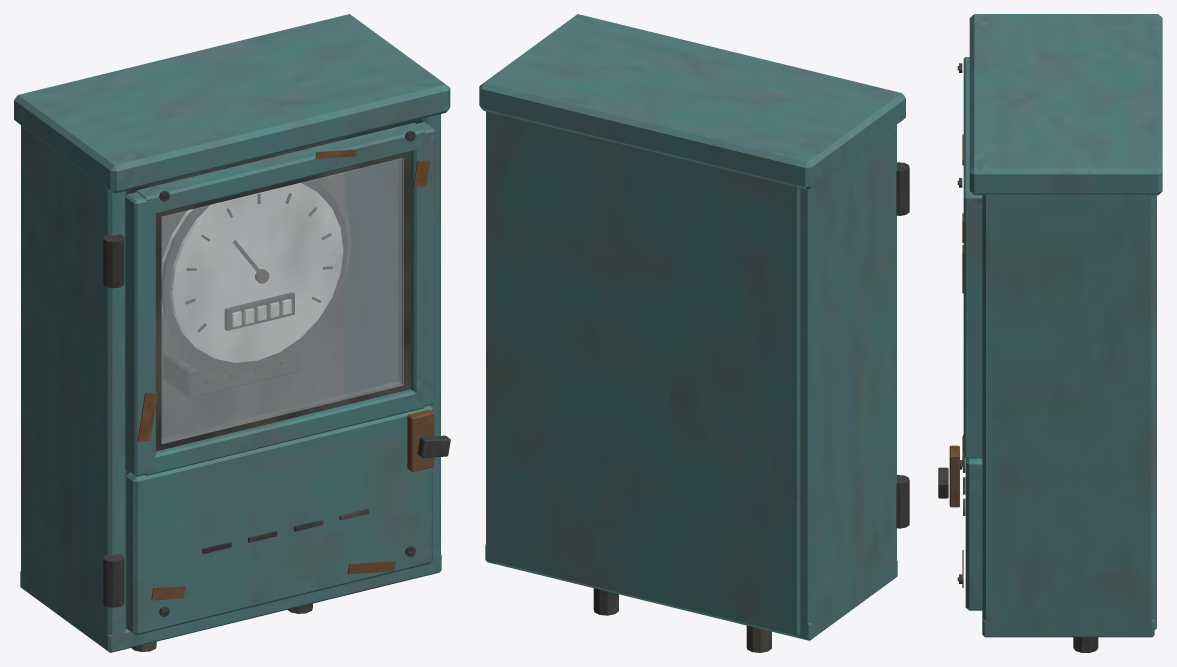
Rendered from U11_electric_meter_box.glb.
3 views of the same model, side by side, from view 1: azimuth 30°, elevation 25°; view 2: azimuth 150°, elevation 25°; view 3: azimuth 270°, elevation 25° (orthographic). The views are drawn at different scales.
Parts seen in each view (by area): view 1: Back plate; view 2: Back plate; view 3: Back plate.
Boxes of the visible parts, x1,y1,x2,y2 form: Back plate: (14, 14, 450, 652); Back plate: (479, 14, 909, 652); Back plate: (938, 14, 1162, 652).
Bounding box in the file's own units: 0.3296 × 0.5 × 0.1955.
9 materials, 8 textured.
